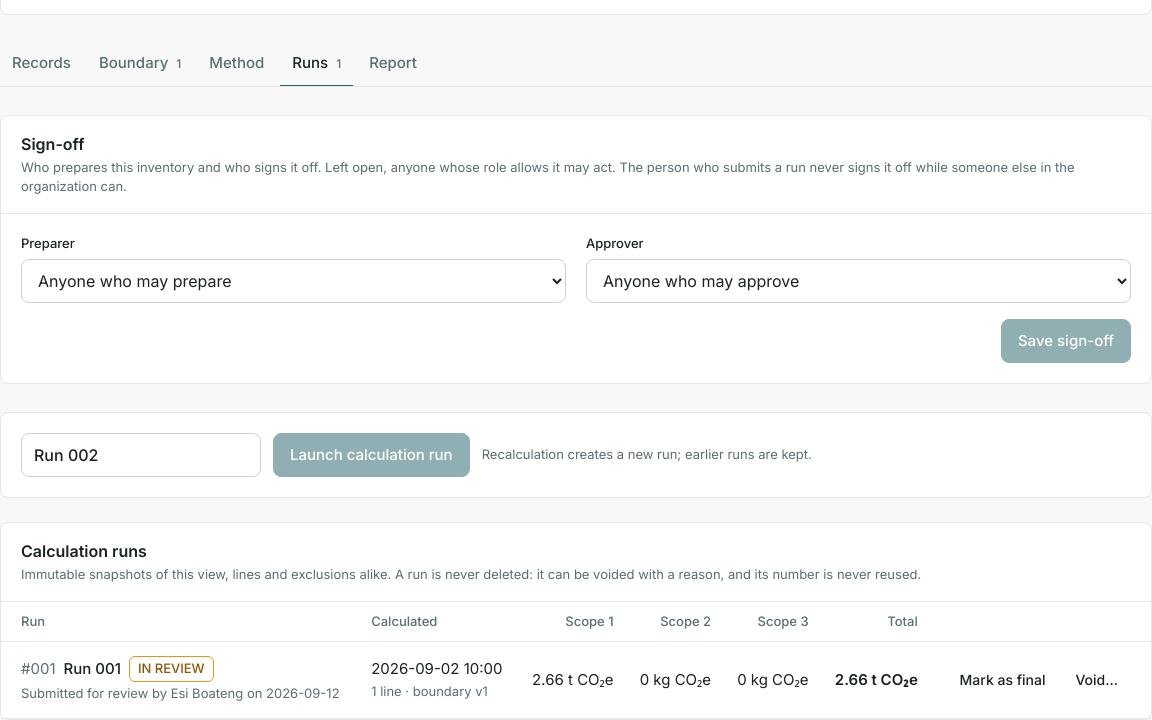
Test: marking a run final is confirmed with a note by a reviewer (spec 05.5)
(page scrolled)
Step 1. Click the button "Mark as final" → point(1002, 680), box [946,662,1058,698]
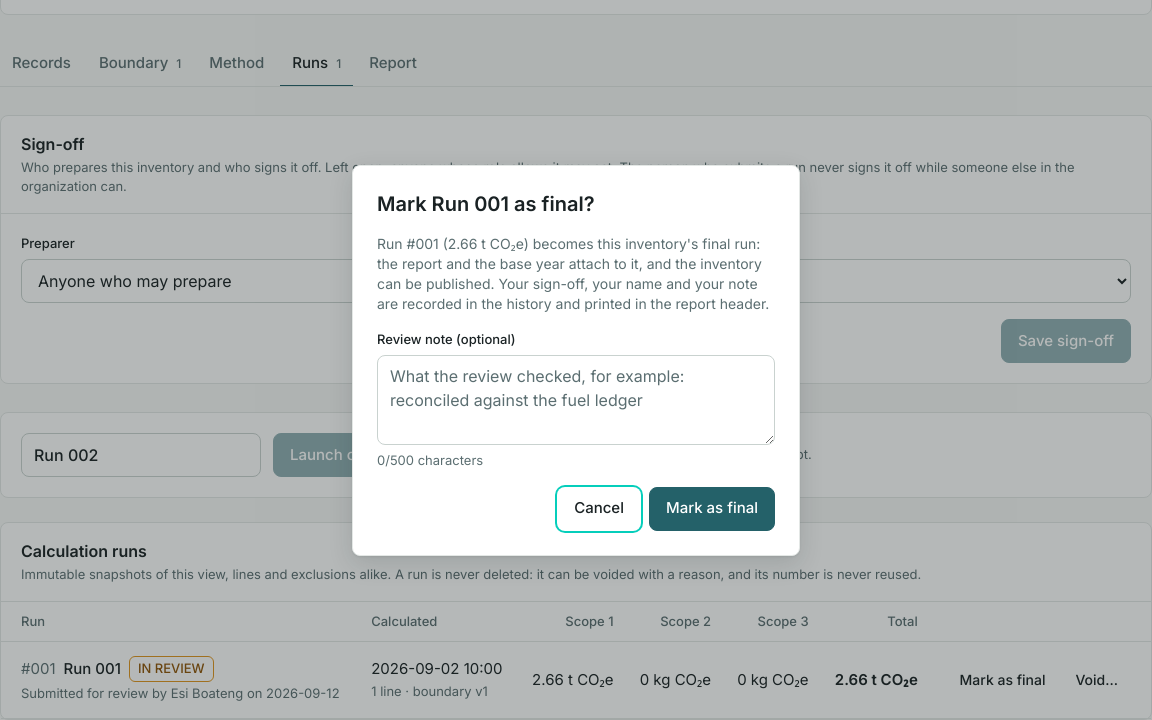
Expected: the text "Run #001 (2.66 t CO₂e) becomes this inventory's final run" is shown, [377,234,775,314]
Expected: the text "the report and the base year attach to it" is shown, [377,234,769,312]
Step 2. Type "reconciled against the fuel ledger" into the text box labelled "Review note (optional)" → point(576, 400), box [377,355,775,445]
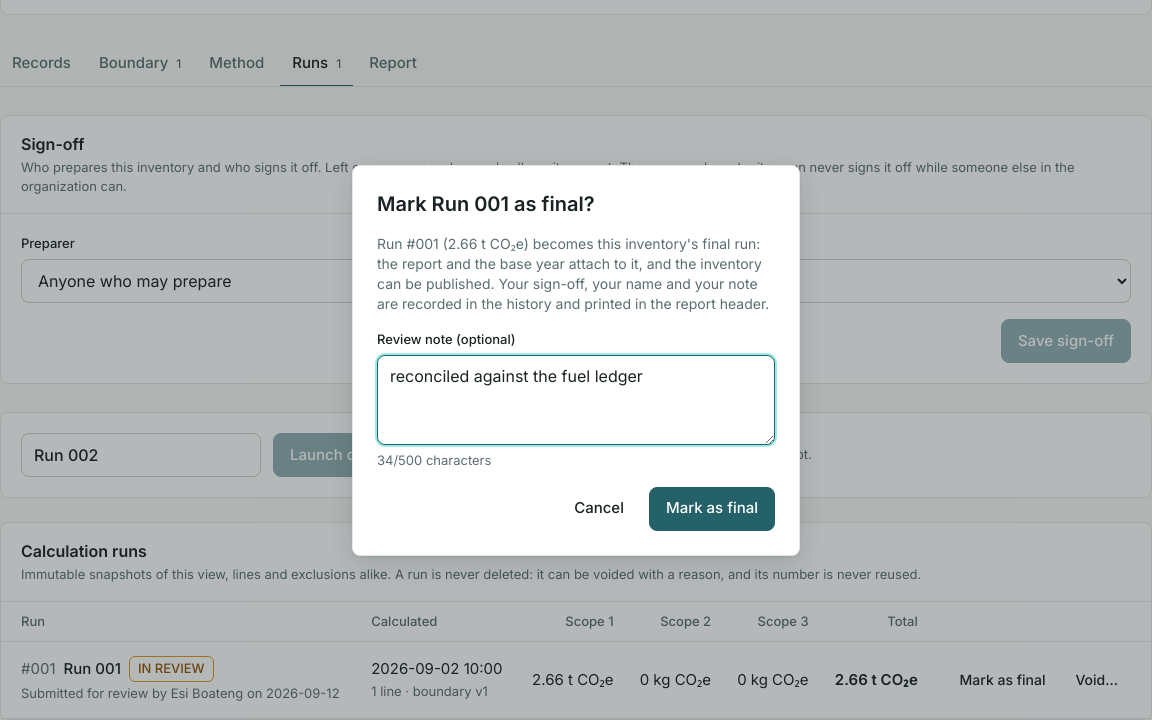
Step 3. Click the button "Mark as final" → point(712, 508), box [649,486,775,530]
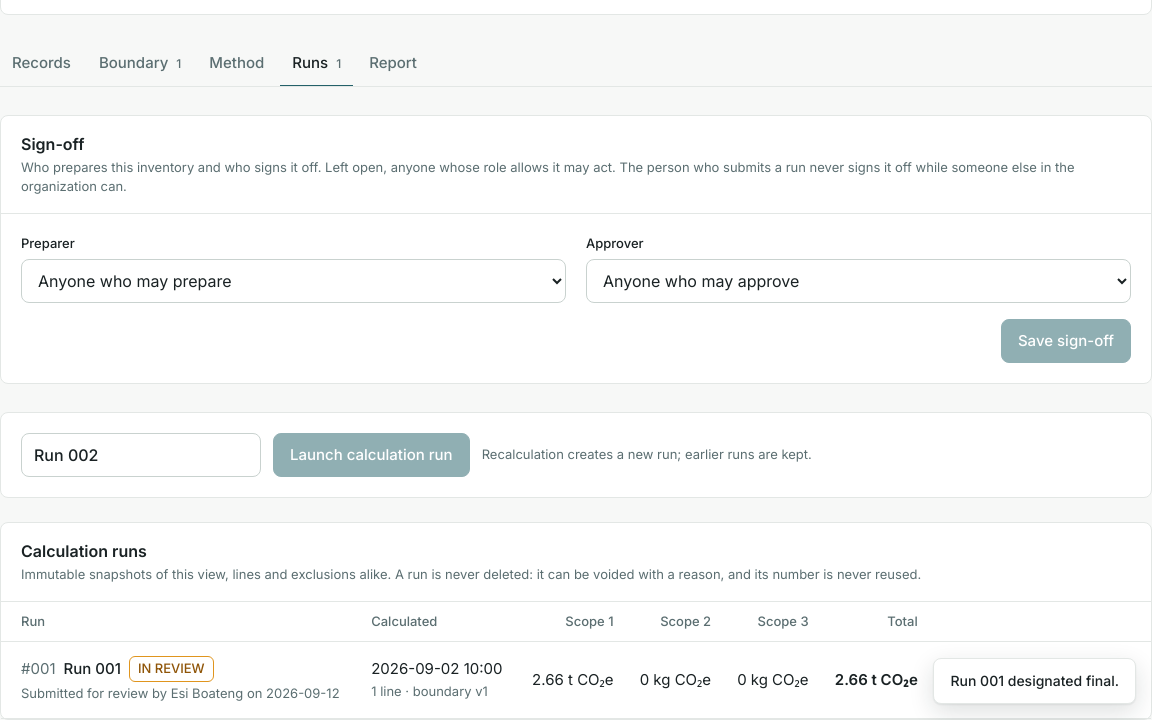
Expected: the text "Run 001 designated final." is shown, [934,658,1136,704]
